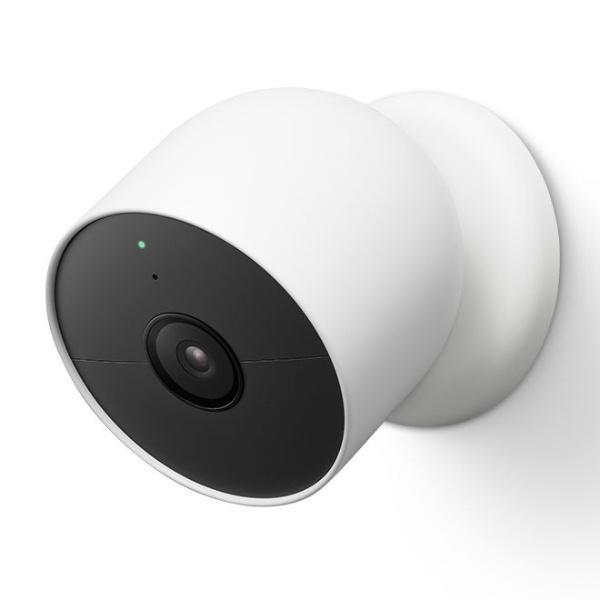maru: (44, 84, 564, 509)
